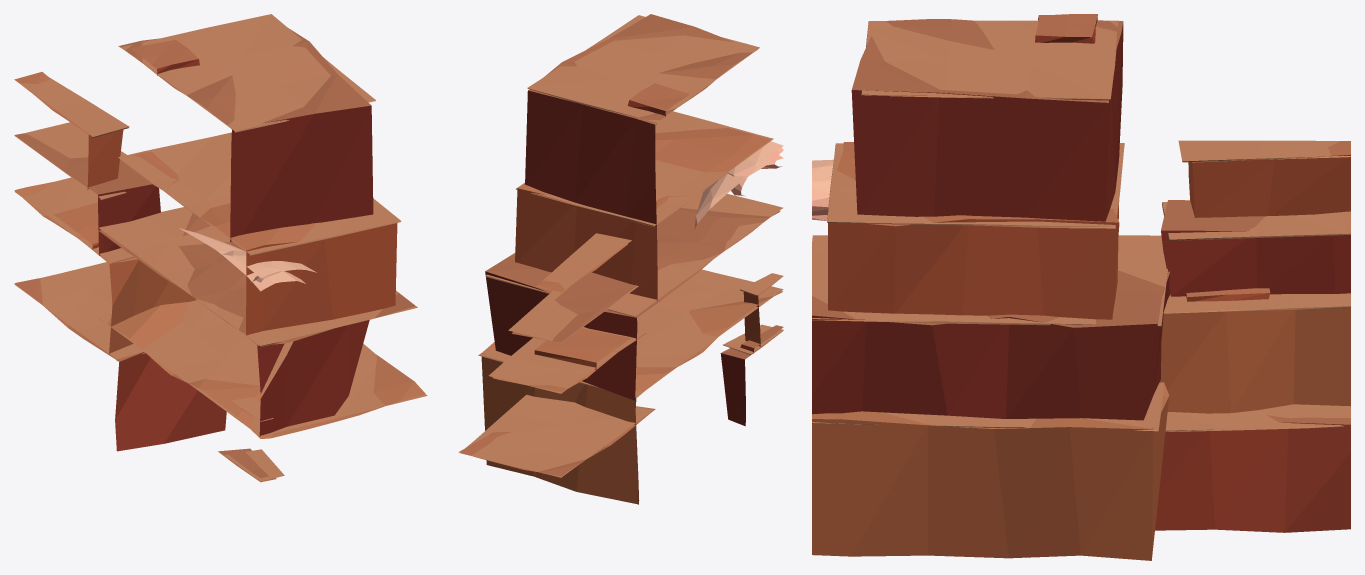
3 renders of one model, left to right at view 1: azimuth 30°, elevation 25°; view 2: azimuth 150°, elevation 25°; view 3: azimuth 270°, elevation 25°, orthographic. The views are drawn at different scales.
Parts seen in each view (by area): view 1: scene.7.2 (×2); view 2: scene.7.2 (×2); view 3: scene.7.2 (×2).
Boxes of the visible parts, bbox=[...] form: scene.7.2 (×2): bbox=[14, 14, 427, 482]; scene.7.2 (×2): bbox=[458, 14, 783, 504]; scene.7.2 (×2): bbox=[812, 14, 1350, 560].
Size of the model in its own units: 26.44 by 58.72 by 62.5.
